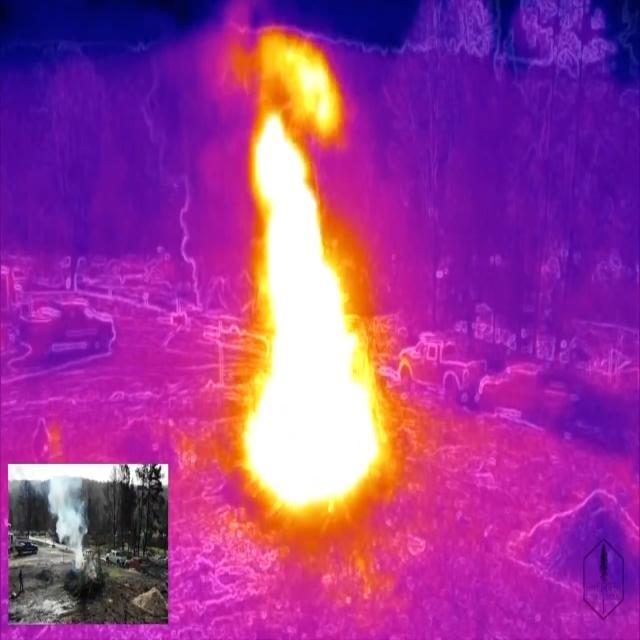fire: (243, 111, 384, 511)
